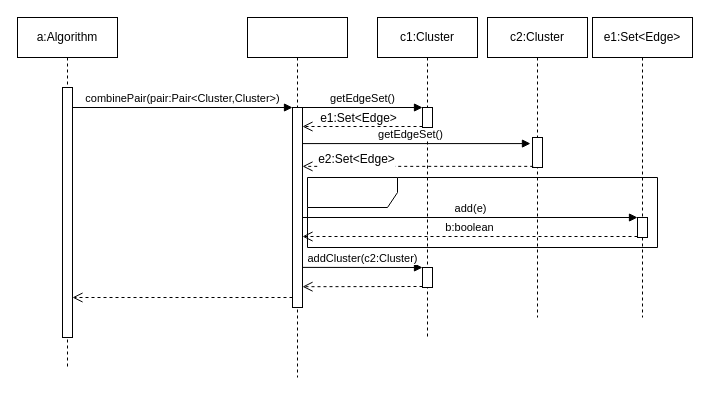
Some shapes in this 710 by 395 pixel diagram are drawn without their labels. The shapes that lost their labels are listed below. From the top down, each one's box as (x1, y1, x2, y2) in pixels, then its label:
(246, 16, 348, 378): s:State
(306, 176, 658, 248): for all edges e in e2
